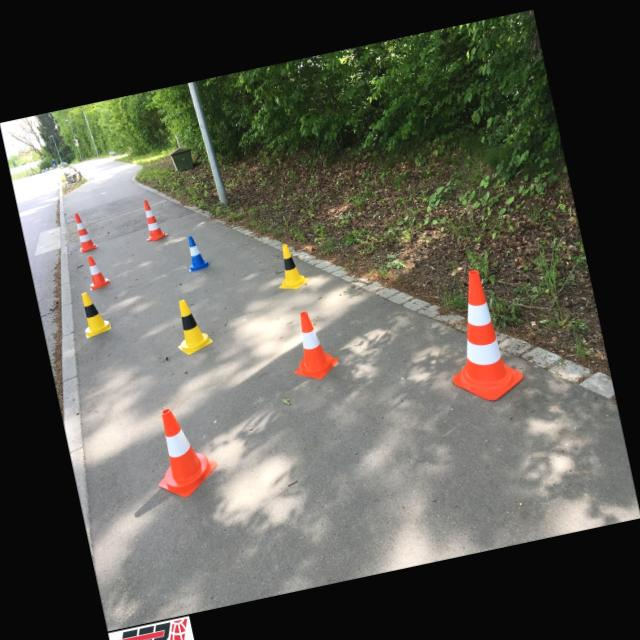blue_cone: (182, 234, 210, 272)
large_orange_cone: (431, 264, 526, 408), (138, 196, 168, 242), (72, 210, 98, 252)
orange_cone: (143, 400, 223, 502), (283, 306, 341, 384), (84, 252, 110, 290)
yellow_cone: (168, 295, 214, 356), (270, 242, 310, 292), (77, 288, 111, 338)
